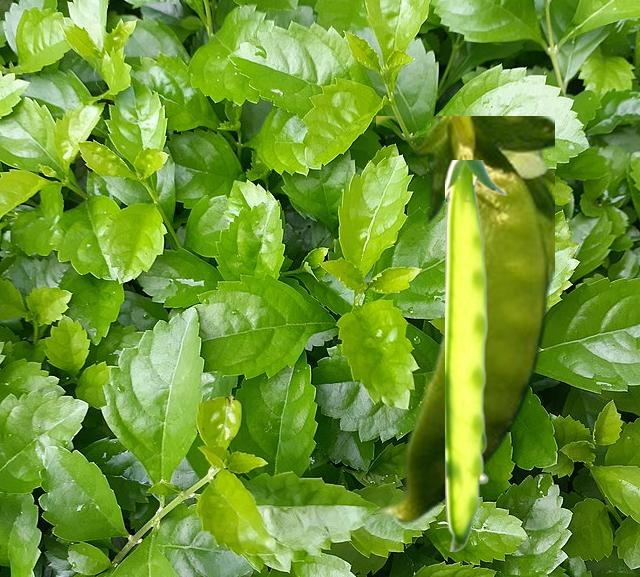pea: (376, 116, 553, 523), (445, 160, 506, 550)
